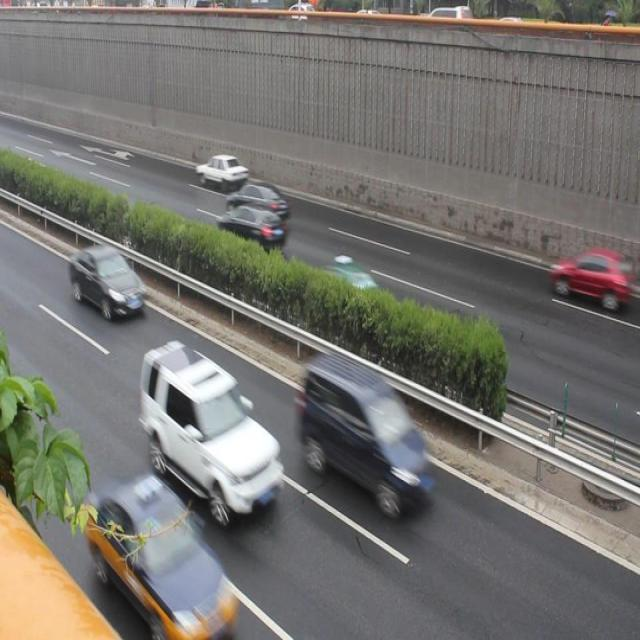car: (86, 475, 249, 640), (137, 342, 277, 514), (65, 242, 146, 311), (547, 242, 626, 312), (314, 250, 378, 309), (217, 202, 284, 253), (229, 179, 284, 220), (194, 148, 244, 187)
truck: (302, 353, 435, 513)
